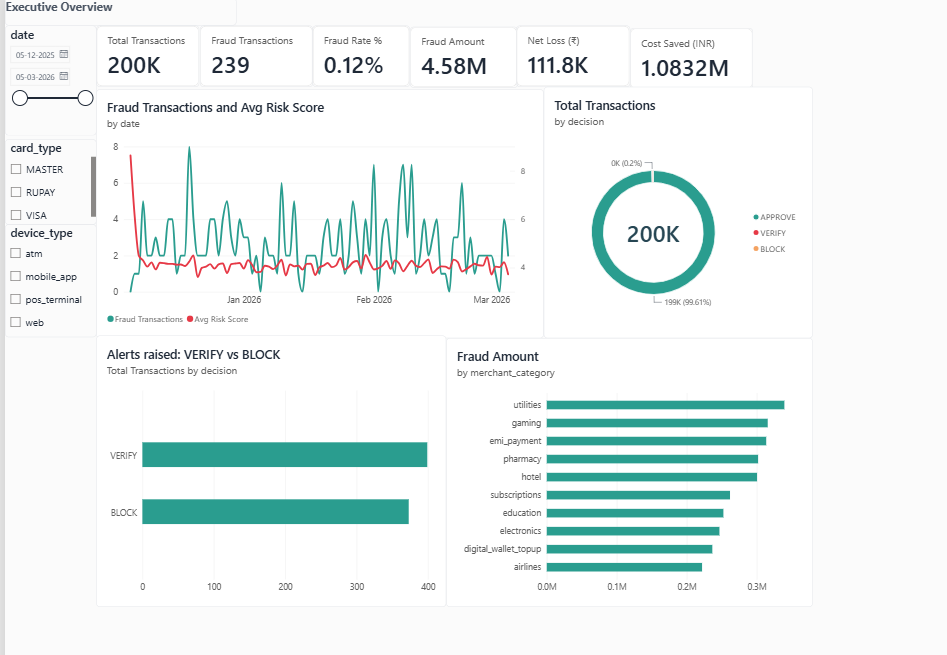

What the dashboard file says about the page in this screenshot:
{"tool":"powerbi","page":{"name":"Executive Overview","canvas":[1920,1080],"ordinal":0},"visuals":[{"type":"slicer","fields":{"Values":["dim_date.date"]},"box":[0,43.8,146,176],"z":0},{"type":"slicer","fields":{"Values":["fact_transactions.card_type"]},"box":[0,225,146,137],"z":1000},{"type":"slicer","fields":{"Values":["fact_transactions.device_type"]},"box":[0,361.9,146,181],"z":2000},{"type":"textbox","box":[0,0,370,44],"z":3000},{"type":"cardVisual","fields":{"Data":["_Measures.Fraud Transactions"]},"box":[311,44,181,98],"z":4000},{"type":"cardVisual","fields":{"Data":["_Measures.Total Transactions"]},"box":[146,44,165,98],"z":5000},{"type":"cardVisual","fields":{"Data":["_Measures.Fraud Rate %"]},"box":[492,44,129,98],"z":6000},{"type":"cardVisual","fields":{"Data":["_Measures.Fraud Amount"]},"box":[620,45,172.5,97.5],"z":7000},{"type":"cardVisual","fields":{"Data":["_Measures.Net Loss"]},"box":[792.5,45,141,97],"z":8000},{"type":"cardVisual","fields":{"Data":["_Measures.Cost Saved (INR)"]},"box":[933.8,43.8,197,98],"z":9000},{"type":"lineChart","fields":{"Category":["dim_date.date"],"Y":["_Measures.Fraud Transactions"],"Y2":["_Measures.Avg Risk Score"]},"box":[146.2,145,716.2,398.8],"z":10000},{"type":"donutChart","fields":{"Category":["fact_transactions.decision"],"Y":["_Measures.Total Transactions"]},"box":[862.5,141.2,430,402.5],"z":11000},{"type":"clusteredBarChart","fields":{"Category":["fact_transactions.decision"],"Y":["_Measures.Total Transactions"]},"box":[146,540,560,434],"z":12000},{"type":"clusteredBarChart","fields":{"Category":["fact_transactions.merchant_category"],"Y":["_Measures.Fraud Amount"]},"box":[706,544,586,430],"z":13000}]}

Visuals, with their boxes on the page's 1920x1080 design canvas (x1, y1, x2, y2). These are canvas units, not pixel positions in the 947x655 screenshot, which may show the page scaled, cropped or inside an application window:
slicer - dim_date.date: locate(0, 44, 146, 220)
slicer - fact_transactions.card_type: locate(0, 225, 146, 362)
slicer - fact_transactions.device_type: locate(0, 362, 146, 543)
textbox: locate(0, 0, 370, 44)
cardVisual - _Measures.Fraud Transactions: locate(311, 44, 492, 142)
cardVisual - _Measures.Total Transactions: locate(146, 44, 311, 142)
cardVisual - _Measures.Fraud Rate %: locate(492, 44, 621, 142)
cardVisual - _Measures.Fraud Amount: locate(620, 45, 792, 142)
cardVisual - _Measures.Net Loss: locate(792, 45, 934, 142)
cardVisual - _Measures.Cost Saved (INR): locate(934, 44, 1131, 142)
lineChart - dim_date.date x _Measures.Fraud Transactions: locate(146, 145, 862, 544)
donutChart - fact_transactions.decision x _Measures.Total Transactions: locate(862, 141, 1292, 544)
clusteredBarChart - fact_transactions.decision x _Measures.Total Transactions: locate(146, 540, 706, 974)
clusteredBarChart - fact_transactions.merchant_category x _Measures.Fraud Amount: locate(706, 544, 1292, 974)
